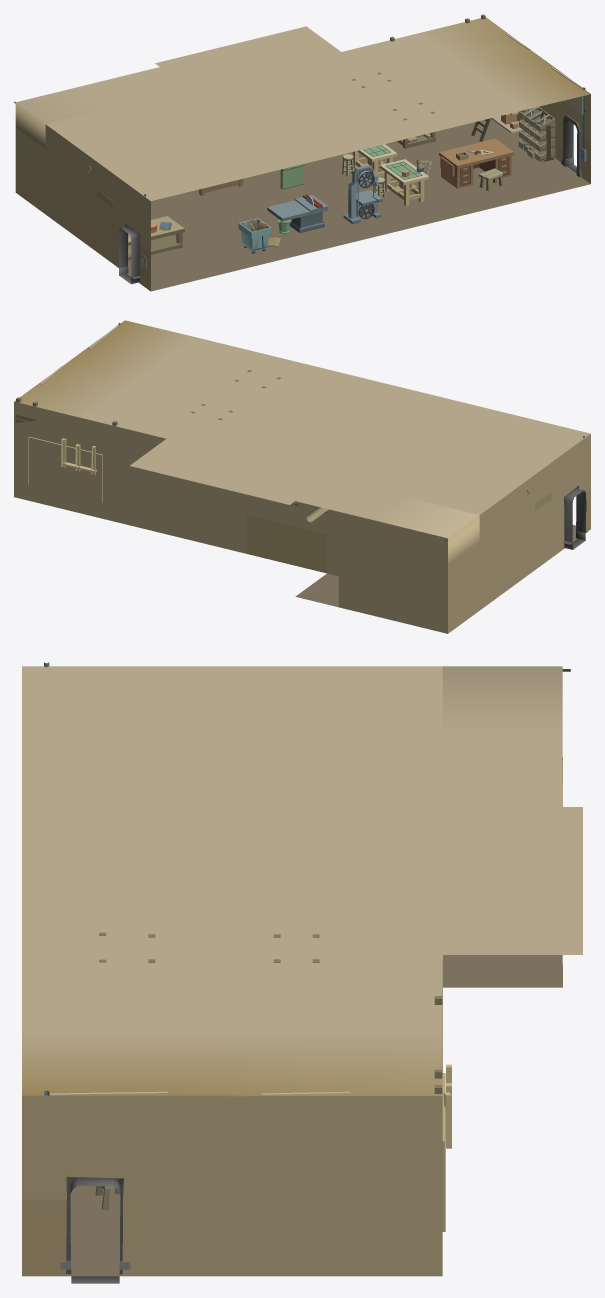
The model's file is MSH_Design_factory_room_l3_R3_optimized.fbx.
The picture shows the model from 3 angles, top to bottom: view 1: azimuth 30°, elevation 25°; view 2: azimuth 150°, elevation 25°; view 3: azimuth 270°, elevation 25°; orthographic projection. The views are drawn at different scales.
Visible parts, largest first — view 1: lightmap0; view 2: lightmap0; view 3: lightmap0.
Boxes of the visible parts, x1=… form: lightmap0: x1=14, y1=14, x2=590, y2=291; lightmap0: x1=14, y1=320, x2=590, y2=633; lightmap0: x1=22, y1=662, x2=582, y2=1283.
Bounding box in the file's own units: 30.91 × 6.08 × 16.51.
